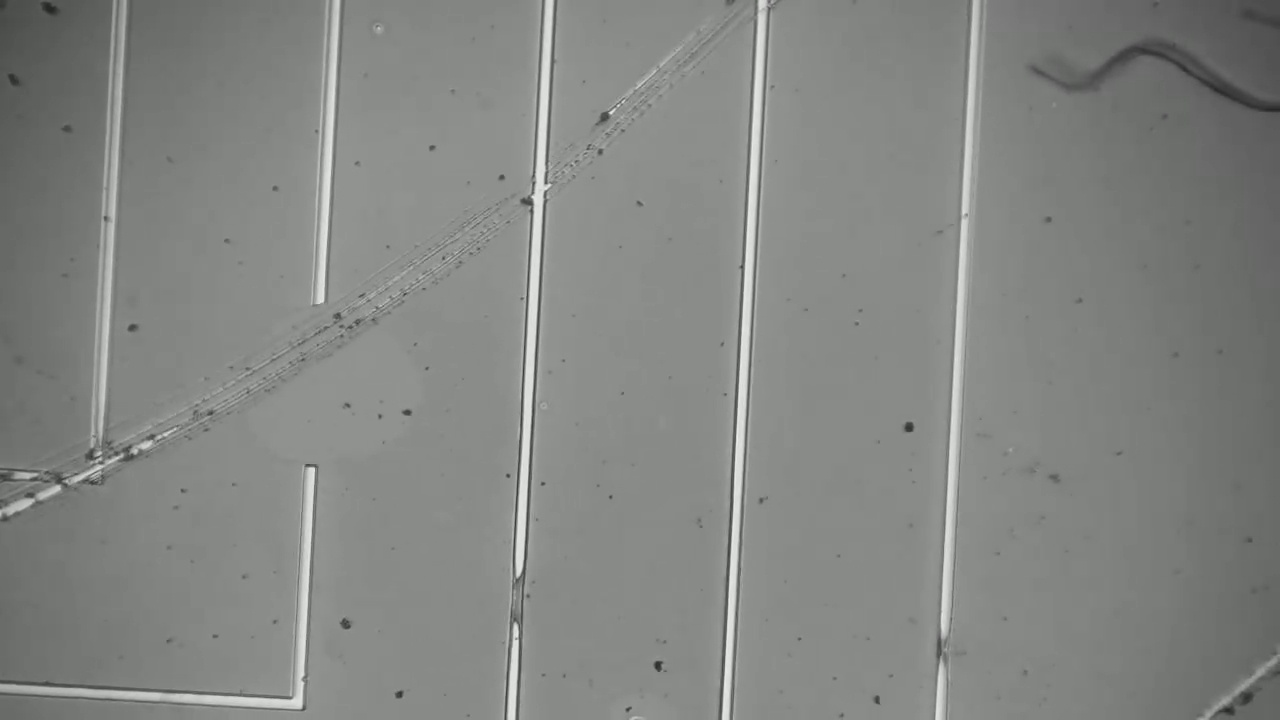gray_line: (915, 606, 965, 684), (498, 561, 532, 646)
open: (288, 278, 337, 491)
scratch: (153, 8, 759, 445), (1161, 626, 1279, 717)
